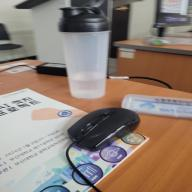mouse: (60, 100, 151, 150)
